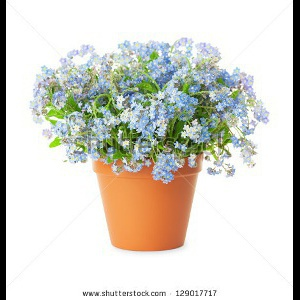flowerpot: (93, 144, 202, 251)
